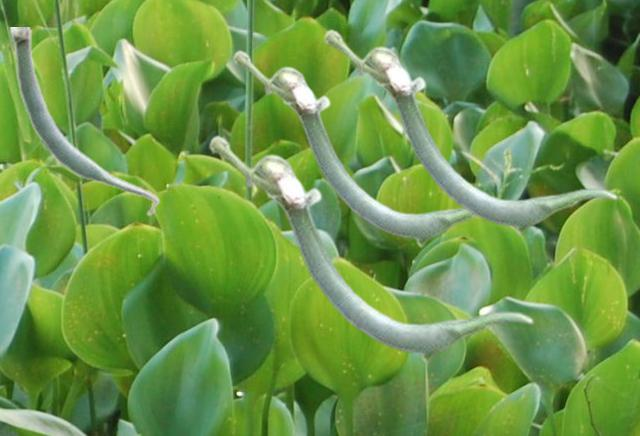french_bean: (208, 134, 533, 363), (323, 28, 617, 235), (232, 49, 479, 247), (9, 27, 159, 216)
